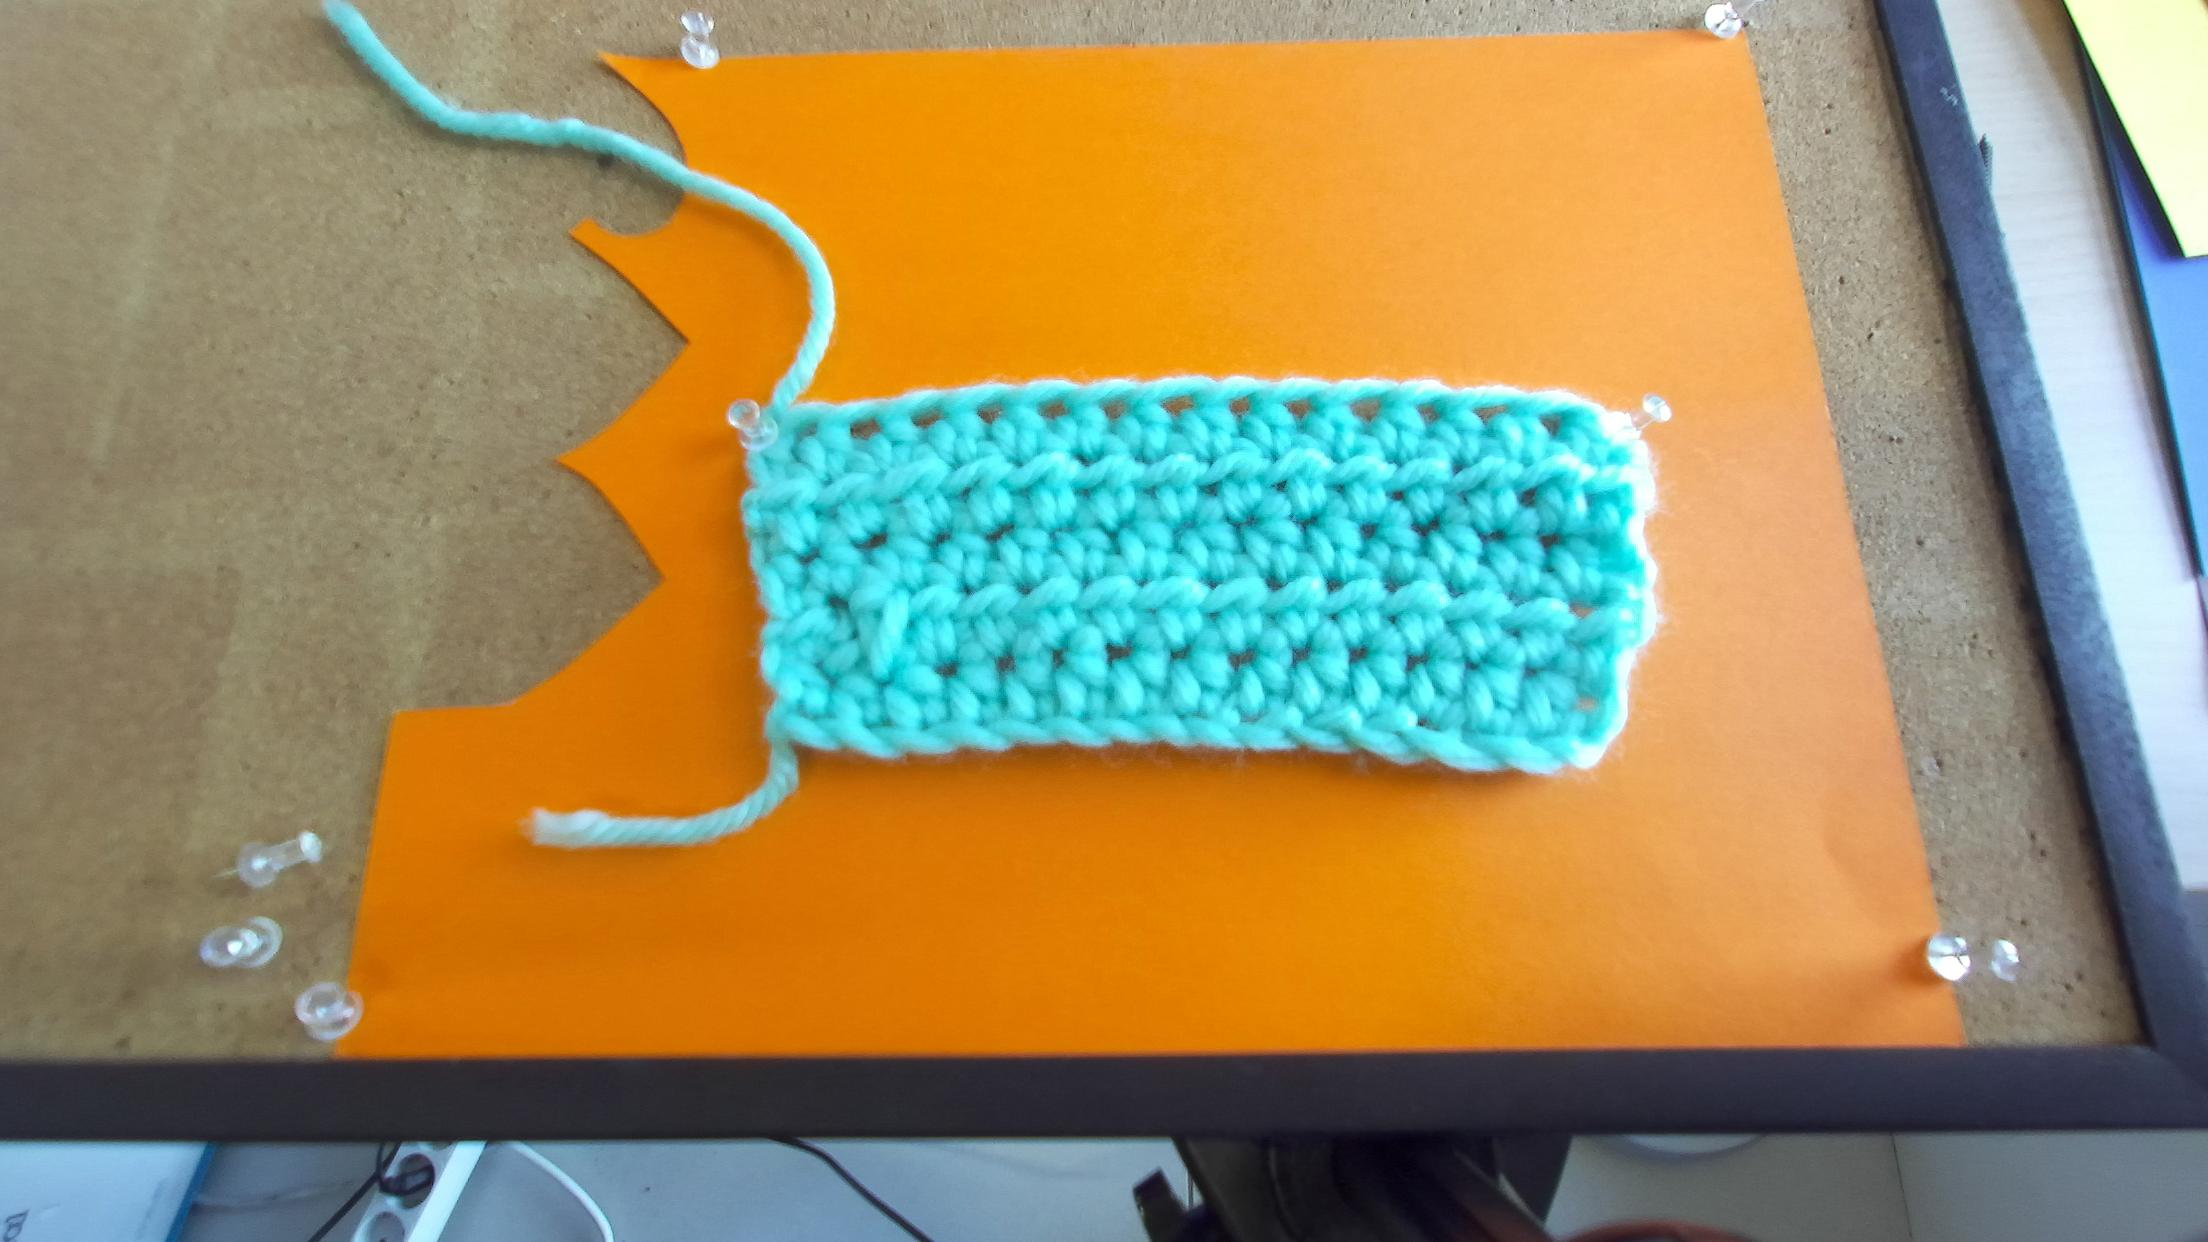hole: (910, 405, 946, 429), (1350, 396, 1383, 422), (1471, 403, 1507, 426), (1283, 396, 1312, 422), (1159, 396, 1193, 417), (851, 420, 883, 441), (1039, 399, 1069, 420), (1538, 416, 1563, 440), (1101, 397, 1128, 420), (1413, 402, 1442, 423), (974, 406, 1004, 426), (1225, 394, 1251, 417), (793, 419, 817, 441)
swatch: (734, 382, 1664, 779)
